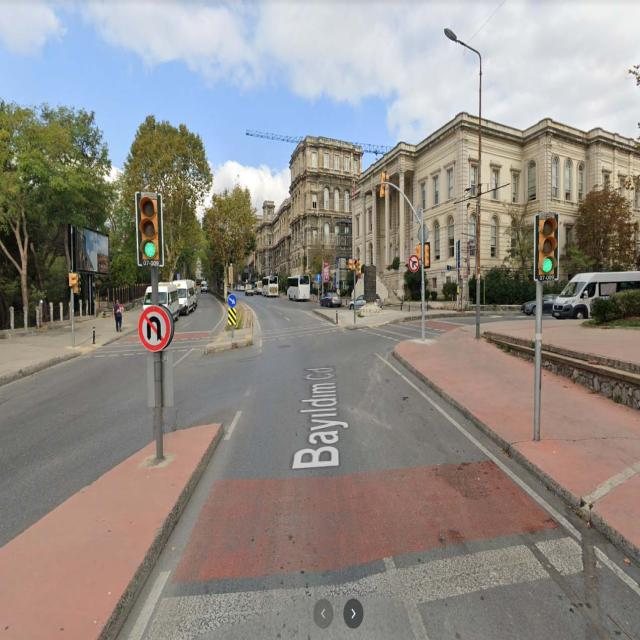sagadonulmez: (408, 255, 418, 271)
yesil: (137, 191, 163, 262), (535, 213, 557, 278)
